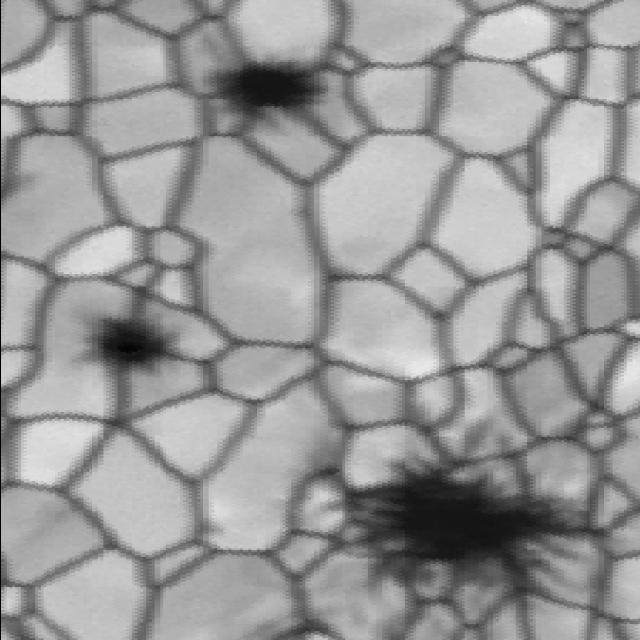good_void: (314, 433, 623, 606), (183, 37, 339, 138), (61, 306, 209, 388)
